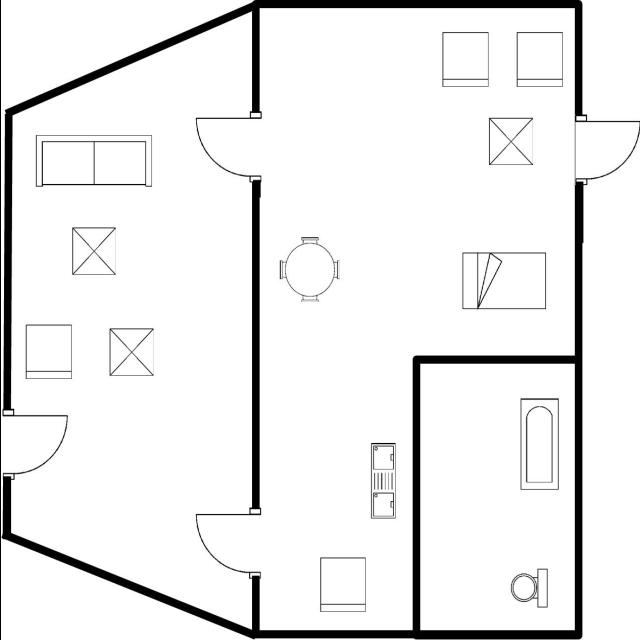bed: (458, 248, 552, 314)
coffee_table: (65, 218, 121, 280), (483, 110, 537, 170), (103, 323, 156, 383)
large_sink: (506, 564, 552, 611)
large_sofa: (26, 128, 156, 189)
round_table: (274, 230, 343, 306)
small_sofa: (312, 552, 370, 616), (20, 319, 75, 386), (511, 27, 565, 92), (438, 26, 492, 91)
tub: (514, 391, 562, 495)
twin_sink: (364, 436, 398, 524)
